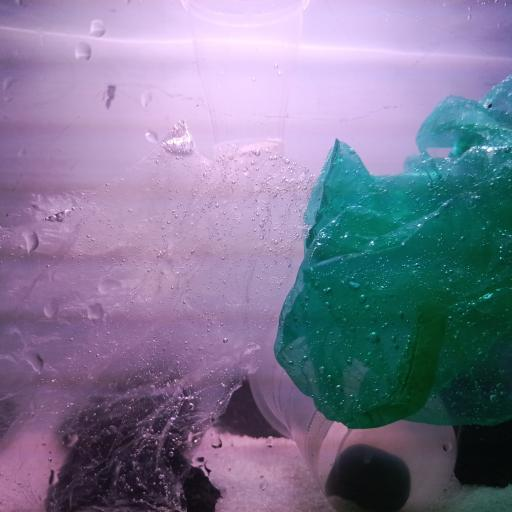plastic_bag: (0, 118, 313, 512), (270, 68, 512, 430)
plastic_cup: (245, 357, 456, 512)
